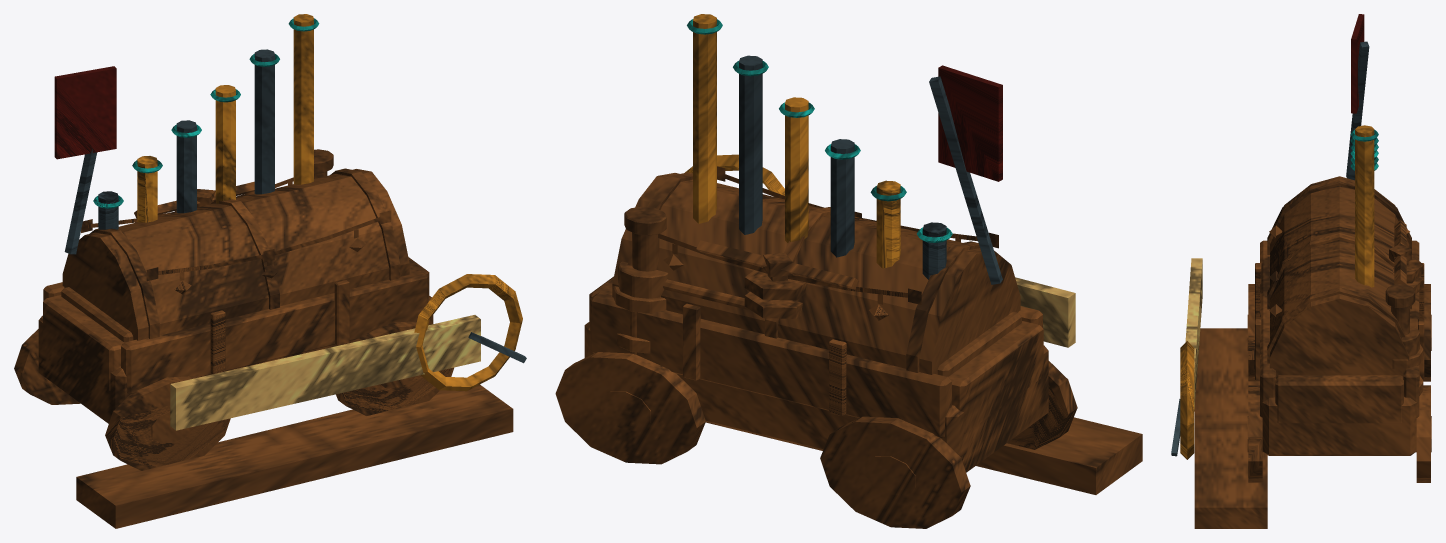
Rendered from west-current-calliope-wagon.glb.
The picture shows the model from 3 angles, left to right: view 1: azimuth 30°, elevation 25°; view 2: azimuth 150°, elevation 25°; view 3: azimuth 270°, elevation 25°; orthographic projection. The views are drawn at different scales.
Visible parts, largest first — view 1: west-current-calliope-wagon; view 2: west-current-calliope-wagon; view 3: west-current-calliope-wagon.
Part boxes in pixels (box(x1,y1,x2,y2)): west-current-calliope-wagon: box(14, 14, 526, 528); west-current-calliope-wagon: box(555, 14, 1142, 528); west-current-calliope-wagon: box(1171, 14, 1431, 528).
Size of the model in its own units: 6.19 by 5.54 by 3.75.
1 material, 1 textured.
